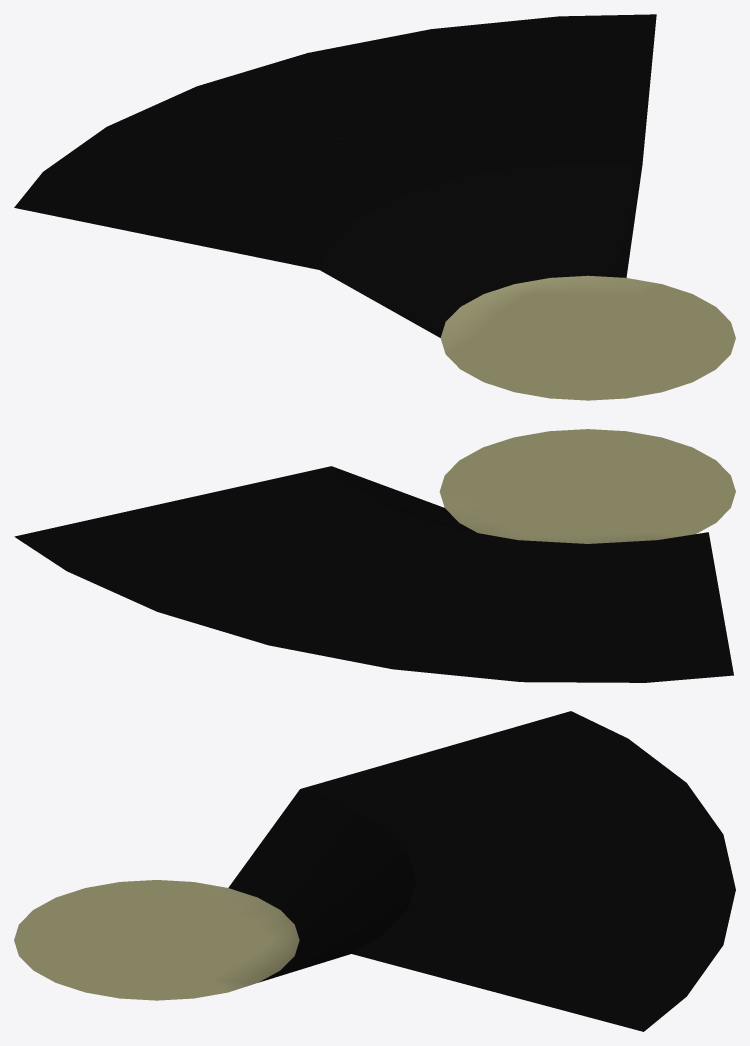
The model's file is newStage3.fbx.
The picture shows the model from 3 angles, top to bottom: view 1: azimuth 30°, elevation 25°; view 2: azimuth 150°, elevation 25°; view 3: azimuth 270°, elevation 25°; orthographic projection. The views are drawn at different scales.
Parts seen in each view (by area): view 1: pDisc2; view 2: pDisc2; view 3: pDisc2.
Part boxes in pixels (x1,y1,x2,y2): pDisc2: (14, 14, 735, 400); pDisc2: (14, 429, 735, 682); pDisc2: (14, 711, 735, 1031).
Size of the model in its own units: 197 by 16.95 by 187.
